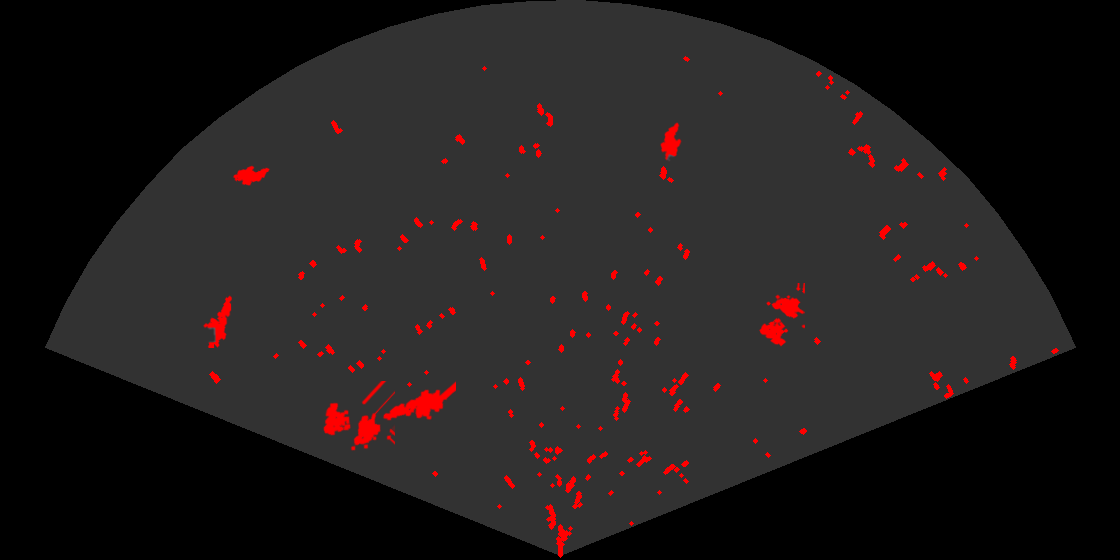AUV: (659, 121, 683, 163), (231, 164, 272, 187)
cage: (322, 381, 395, 452), (758, 283, 805, 348)
frogman: (381, 379, 456, 422), (201, 294, 233, 348)
